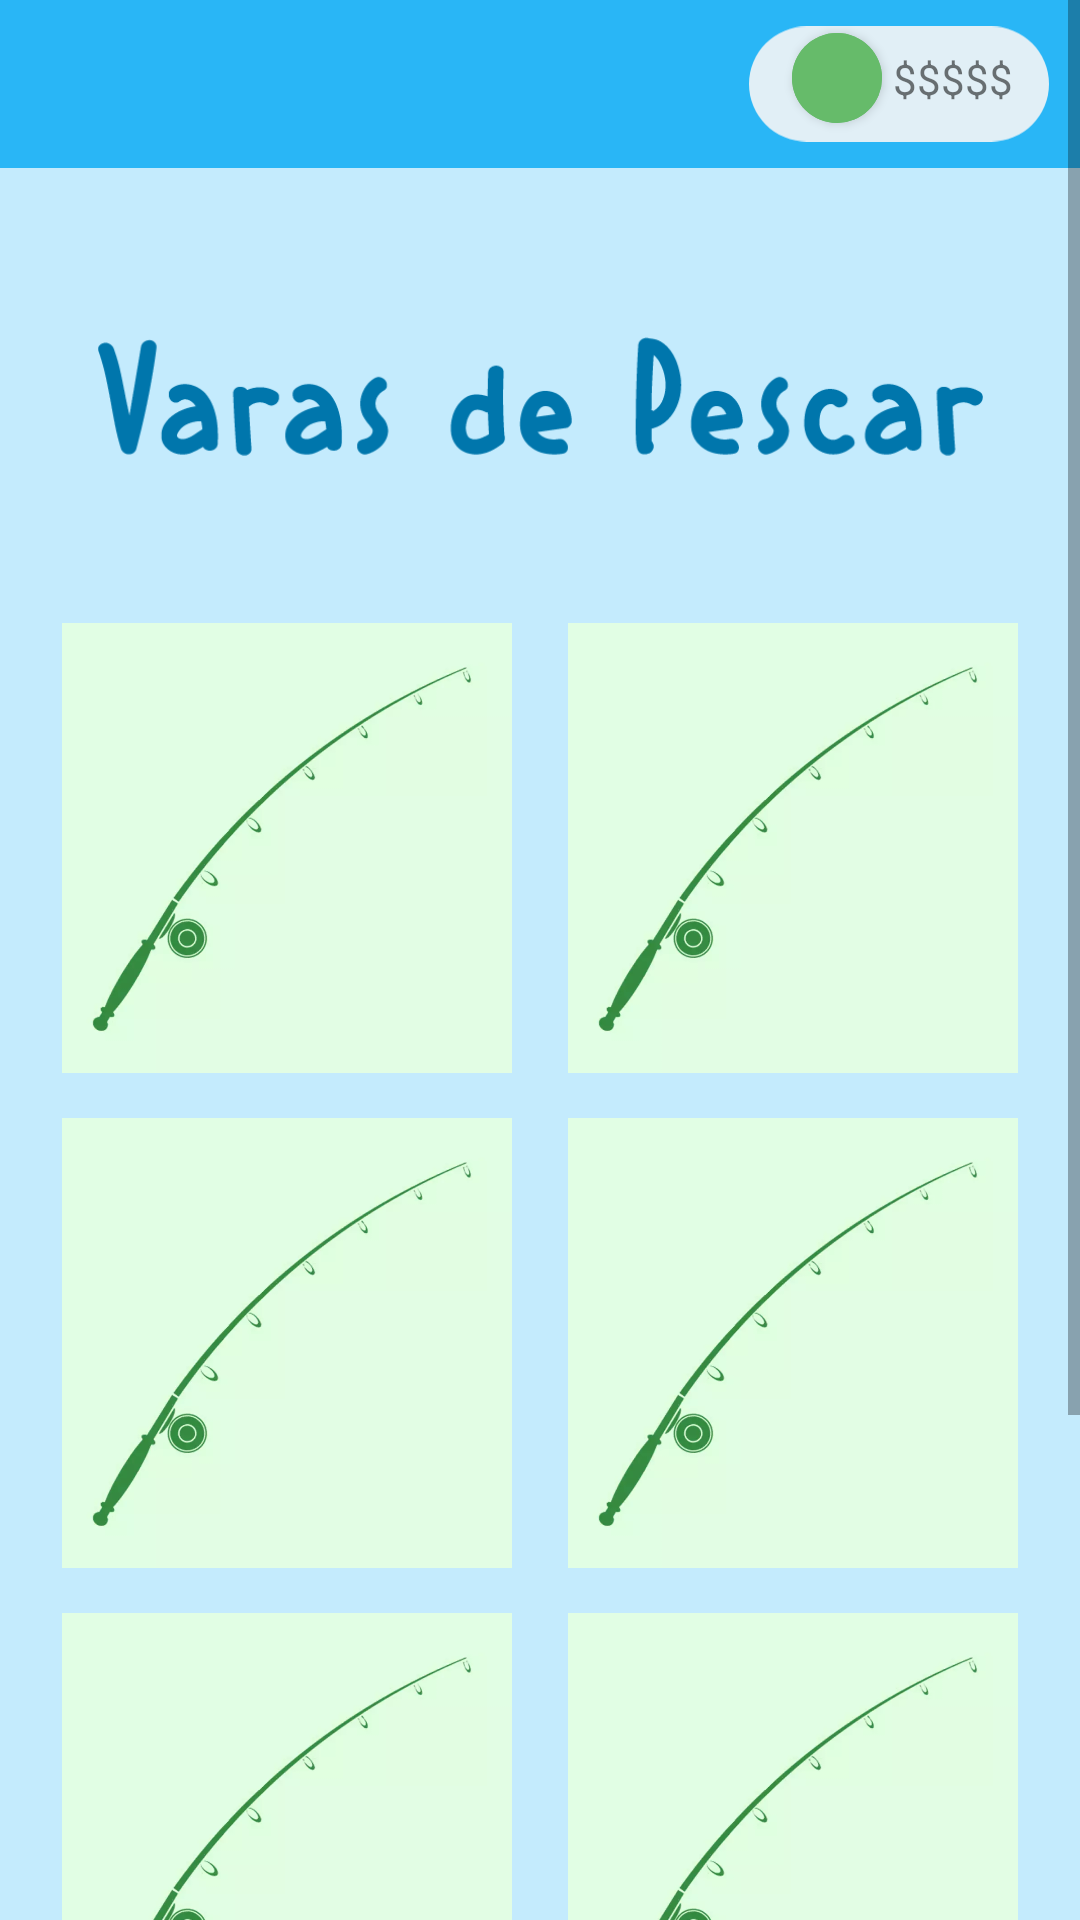

Where icons sit on this 1080×1920 app screen, as (x1, y1, x2, y2):
Area do Dinheiro Virtual: (749, 26, 1049, 142)
